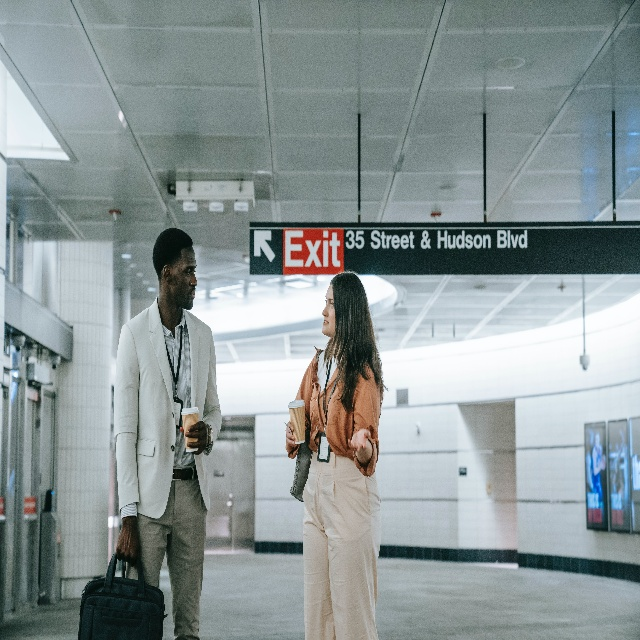Sin_guantes: (115, 518, 141, 571), (178, 419, 210, 456), (284, 419, 307, 449), (347, 425, 370, 452)
